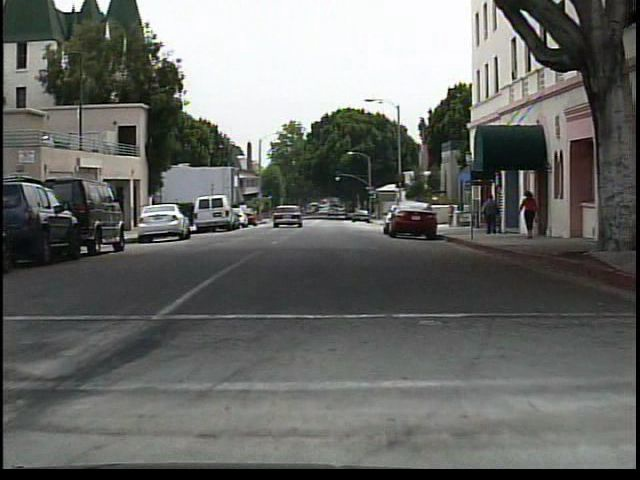person: (518, 185, 541, 242), (479, 192, 501, 238)
